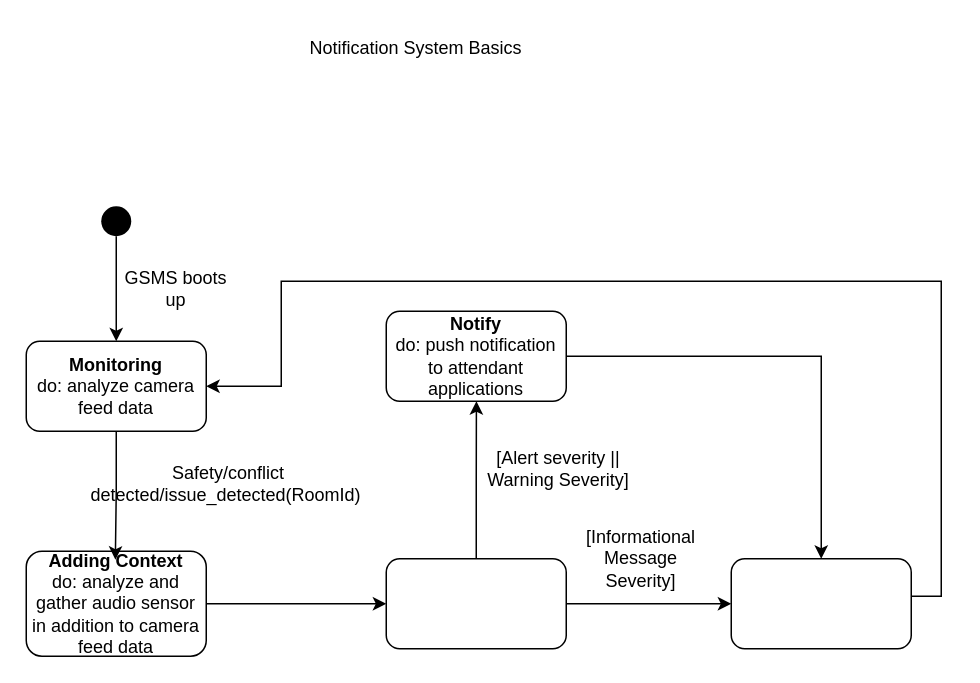
Some shapes in this 980 by 683 pixel diagram are drawn without their labels. Each missing label, with the centre of its shape:
"Determine Severity" belongs at [475,603].
"Logging do: write to database notification sensor/camera context" belongs at [820,603].
